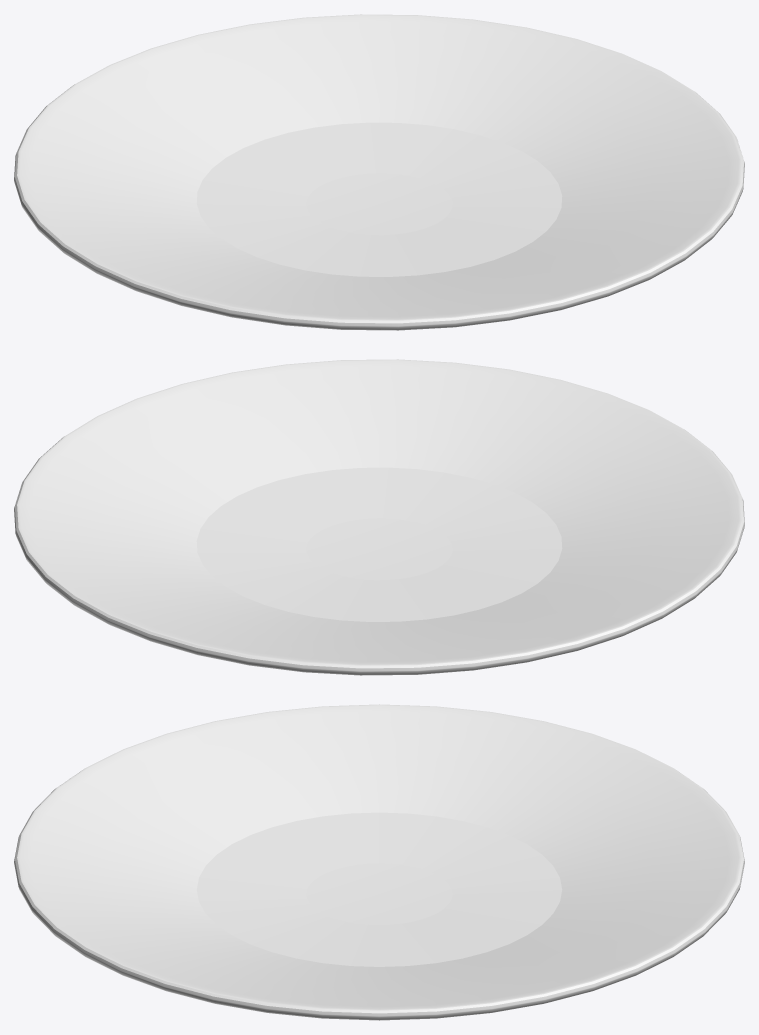
File: geo_plate.fbx
3 views of the same model, one above another, from view 1: azimuth 30°, elevation 25°; view 2: azimuth 150°, elevation 25°; view 3: azimuth 270°, elevation 25° (orthographic).
Visible parts, largest first — view 1: geo_plate; view 2: geo_plate; view 3: geo_plate.
Part boxes in pixels (x1,y1,x2,y2): geo_plate: (14, 14, 744, 330); geo_plate: (14, 359, 744, 675); geo_plate: (14, 704, 744, 1020).
Size of the model in its own units: 0.3369 by 0.0232 by 0.3369.
1 material, 1 textured.
